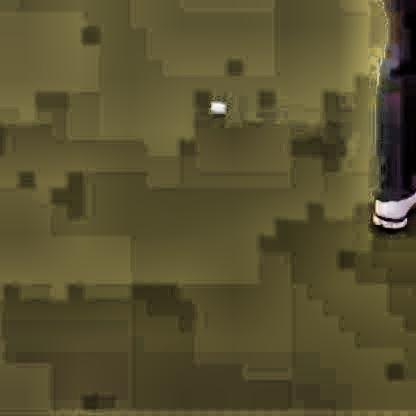golfball: (206, 98, 224, 115)
